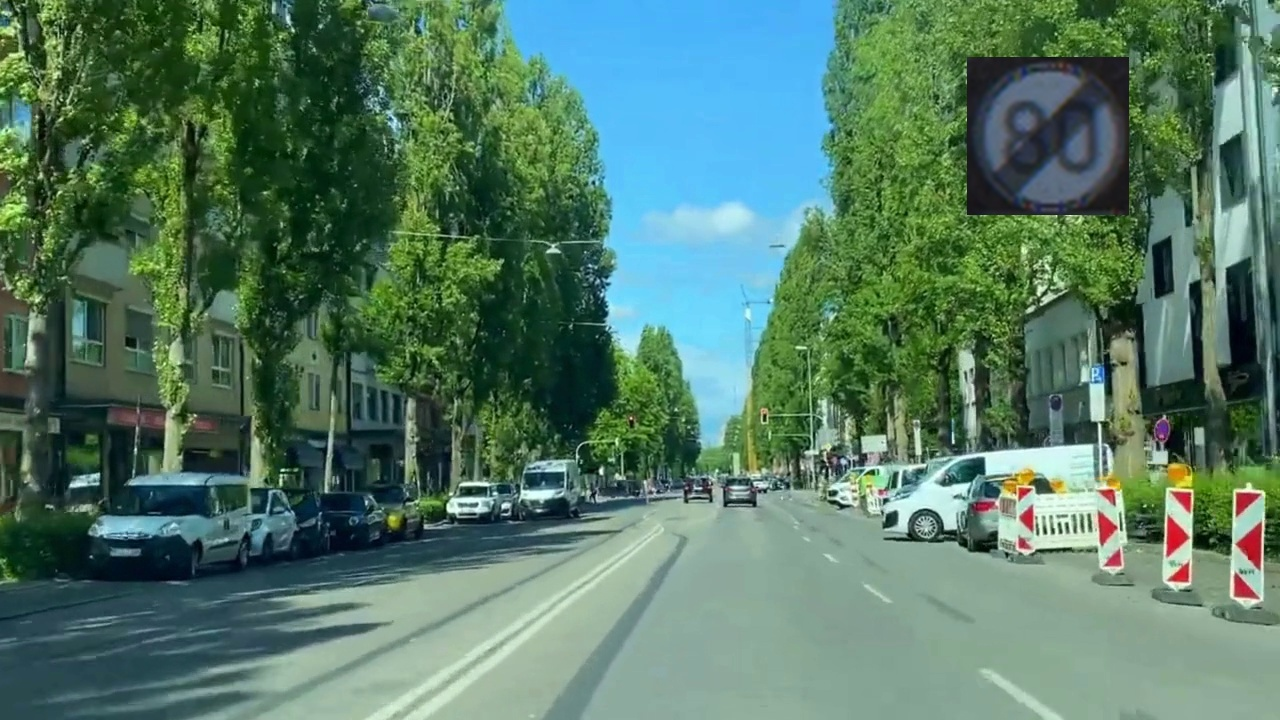End Speed 80: (967, 57, 1129, 215)
